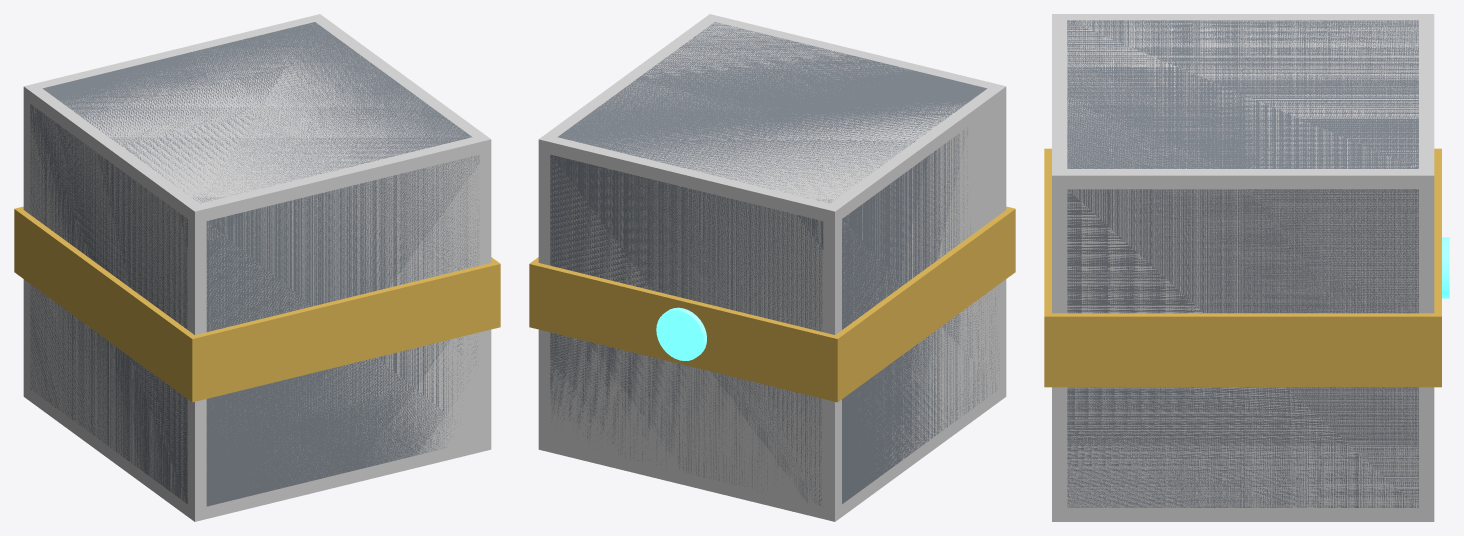
File: sci_fi_crate.glb
3 views of the same model, side by side, from view 1: azimuth 30°, elevation 25°; view 2: azimuth 150°, elevation 25°; view 3: azimuth 270°, elevation 25° (orthographic). The views are drawn at different scales.
Parts seen in each view (by area): view 1: SciFiCrate, SciFiCrate-col; view 2: SciFiCrate, SciFiCrate-col; view 3: SciFiCrate, SciFiCrate-col.
Boxes of the visible parts, x1,y1,x2,y2 form: SciFiCrate: [14, 22, 500, 506]; SciFiCrate-col: [23, 14, 491, 521]; SciFiCrate: [529, 22, 1015, 505]; SciFiCrate-col: [538, 14, 1006, 521]; SciFiCrate: [1044, 20, 1449, 507]; SciFiCrate-col: [1052, 14, 1434, 521].
Size of the model in its own units: 1.04 by 1 by 1.06.
